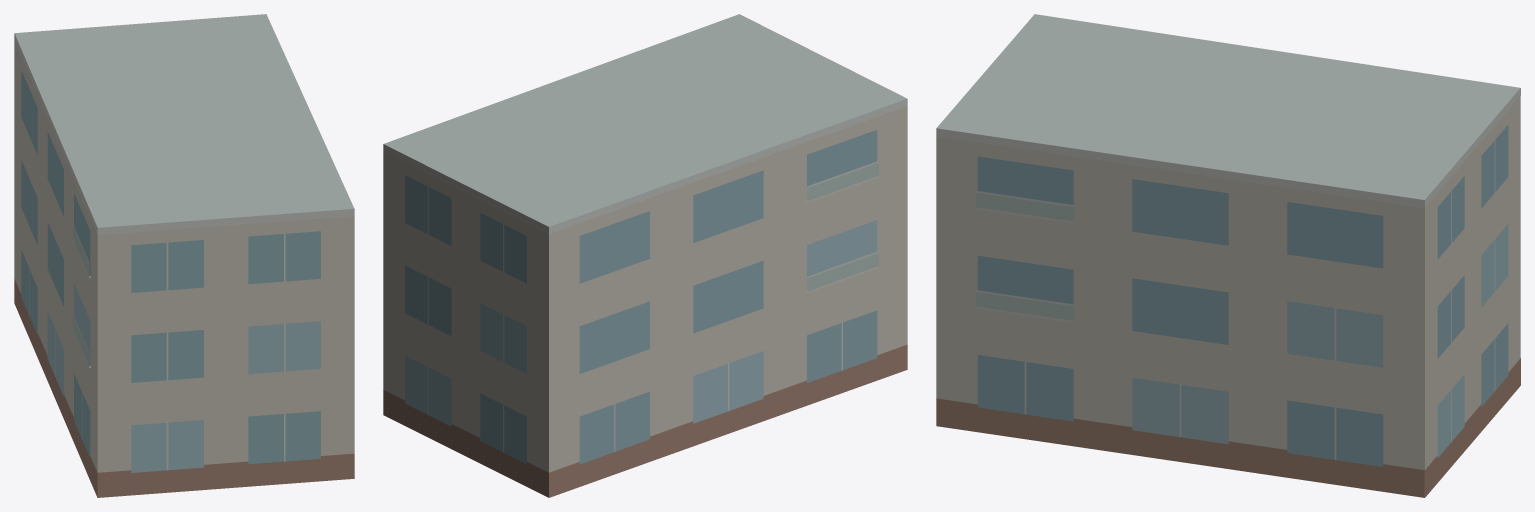
File: survey-upis-32893899.glb
3 renders of one model, left to right at view 1: azimuth 30°, elevation 25°; view 2: azimuth 150°, elevation 25°; view 3: azimuth 270°, elevation 25°, orthographic. The views are drawn at different scales.
Visible parts, largest first — view 1: survey-upis-32893899.tmp; view 2: survey-upis-32893899.tmp; view 3: survey-upis-32893899.tmp.
Part boxes in pixels (bbox=[...]): survey-upis-32893899.tmp: bbox=[14, 14, 354, 497]; survey-upis-32893899.tmp: bbox=[383, 14, 907, 497]; survey-upis-32893899.tmp: bbox=[936, 14, 1520, 497].
Bounding box in the file's own units: 12.27 × 9.15 × 16.28.
